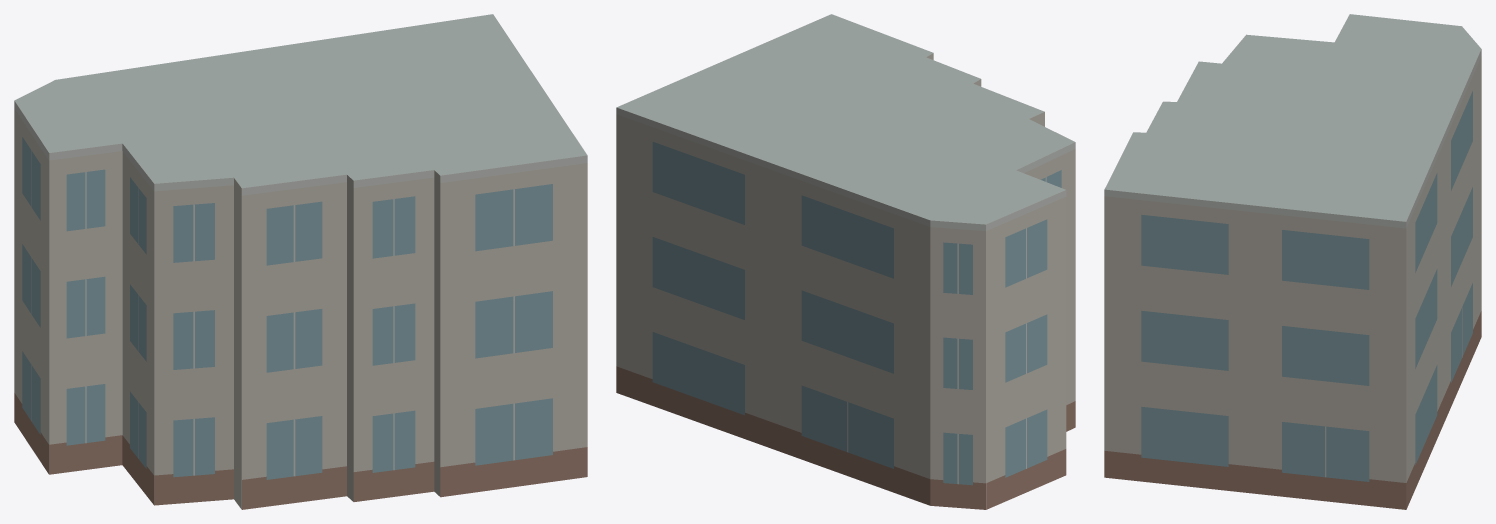
Rendered from survey-upis-32627573.glb.
The picture shows the model from 3 angles, left to right: view 1: azimuth 30°, elevation 25°; view 2: azimuth 150°, elevation 25°; view 3: azimuth 270°, elevation 25°; orthographic projection. The views are drawn at different scales.
Parts seen in each view (by area): view 1: survey-upis-32627573.tmp; view 2: survey-upis-32627573.tmp; view 3: survey-upis-32627573.tmp.
Boxes of the visible parts, x1,y1,x2,y2 form: survey-upis-32627573.tmp: (14, 14, 587, 509); survey-upis-32627573.tmp: (616, 14, 1075, 509); survey-upis-32627573.tmp: (1104, 14, 1481, 509).
Bounding box in the file's own units: 16.26 × 10.5 × 12.47.
